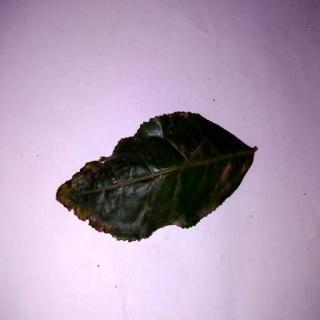Bird Eye Spot: (60, 110, 259, 244)
